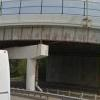Bridge: (3, 3, 97, 69)
